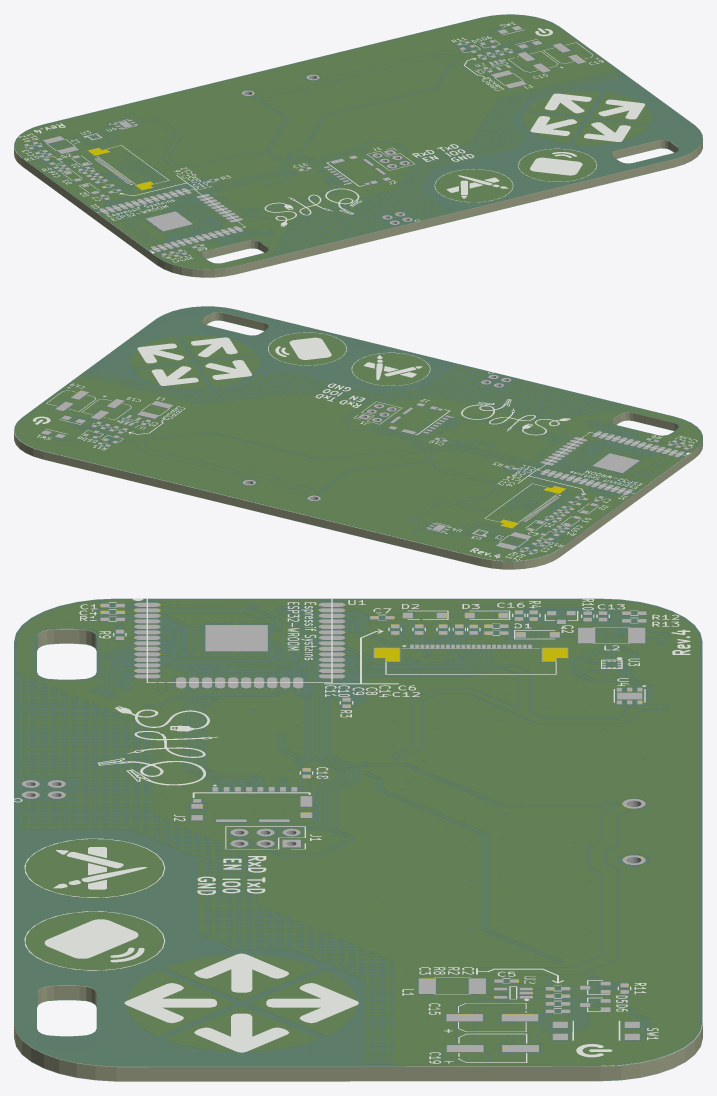
The model's file is 2018-open-hardware-summit-badge.glb.
The picture shows the model from 3 angles, top to bottom: view 1: azimuth 30°, elevation 25°; view 2: azimuth 150°, elevation 25°; view 3: azimuth 270°, elevation 25°; orthographic projection. The views are drawn at different scales.
Parts seen in each view (by area): view 1: =>[0:1:1:7], =>[0:1:1:2], =>[0:1:1:9], =>[0:1:1:5]; view 2: =>[0:1:1:7], =>[0:1:1:2], =>[0:1:1:9], =>[0:1:1:5]; view 3: =>[0:1:1:7], =>[0:1:1:2], =>[0:1:1:9], =>[0:1:1:5].
Boxes of the visible parts, <box> form: =>[0:1:1:7]: <box>14,14,702,277</box>; =>[0:1:1:2]: <box>16,16,651,267</box>; =>[0:1:1:9]: <box>14,24,702,277</box>; =>[0:1:1:5]: <box>14,14,644,262</box>; =>[0:1:1:7]: <box>14,306,702,569</box>; =>[0:1:1:2]: <box>16,333,700,559</box>; =>[0:1:1:9]: <box>14,307,702,569</box>; =>[0:1:1:5]: <box>14,332,697,560</box>; =>[0:1:1:7]: <box>14,598,702,1081</box>; =>[0:1:1:2]: <box>17,600,699,1064</box>; =>[0:1:1:9]: <box>14,599,702,1081</box>; =>[0:1:1:5]: <box>14,598,702,1065</box>.
Bounding box in the file's own units: 0.108 × 0.00166 × 0.0672.
4 materials, 4 textured.
